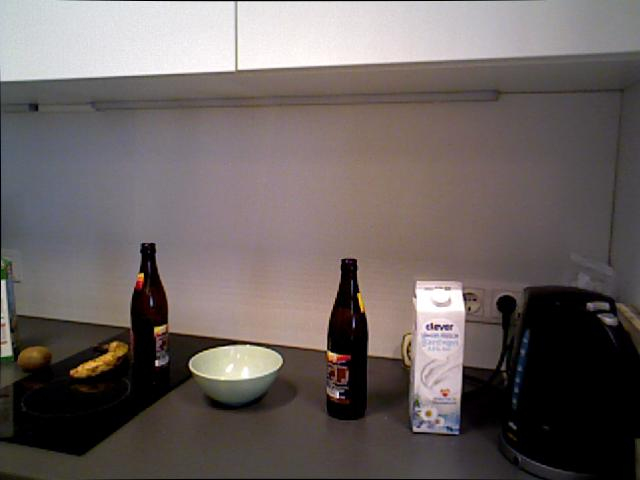bench: (409, 278, 464, 438), (324, 257, 368, 420), (129, 241, 170, 384), (0, 254, 21, 362)
bird: (187, 343, 284, 406)
giraffe: (403, 333, 415, 368)
motorcycle: (67, 334, 132, 388)
